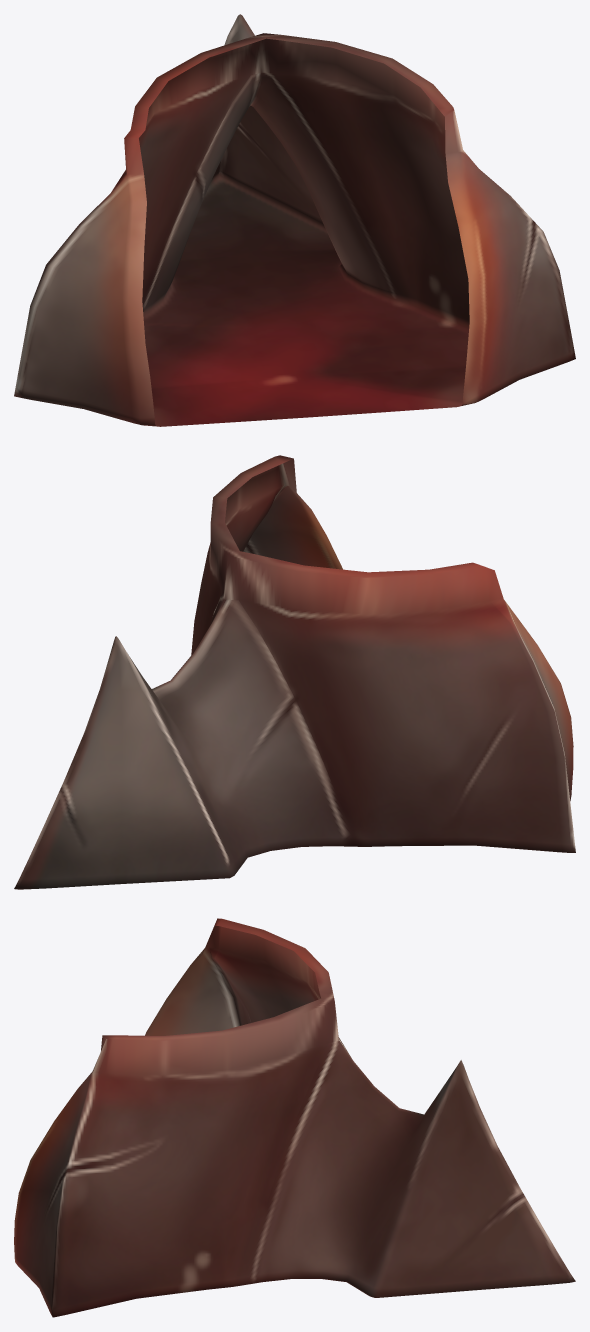
Rendered from sm_skortched_human_feet_back_R..gltf.
The picture shows the model from 3 angles, top to bottom: view 1: azimuth 30°, elevation 25°; view 2: azimuth 150°, elevation 25°; view 3: azimuth 270°, elevation 25°; orthographic projection. The views are drawn at different scales.
Visible parts, largest first — view 1: sm_skortched_human_feet_back_R; view 2: sm_skortched_human_feet_back_R; view 3: sm_skortched_human_feet_back_R.
Part boxes in pixels (x1,y1,x2,y2): sm_skortched_human_feet_back_R: (14, 14, 575, 426); sm_skortched_human_feet_back_R: (14, 455, 575, 889); sm_skortched_human_feet_back_R: (14, 918, 575, 1317).
Size of the model in its own units: 0.1407 by 0.076 by 0.1581.
Materials: 1 (1 with a texture image).
